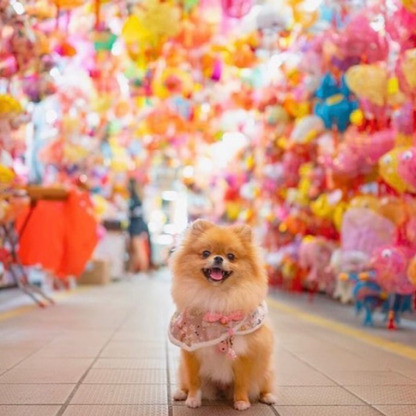Pomeranian: (152, 211, 296, 414)
